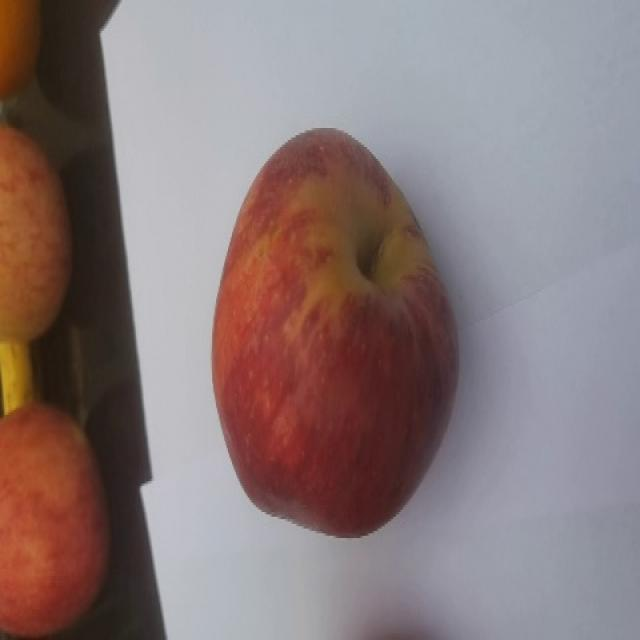Apple: (210, 126, 460, 538), (0, 400, 111, 637), (0, 121, 73, 342)
